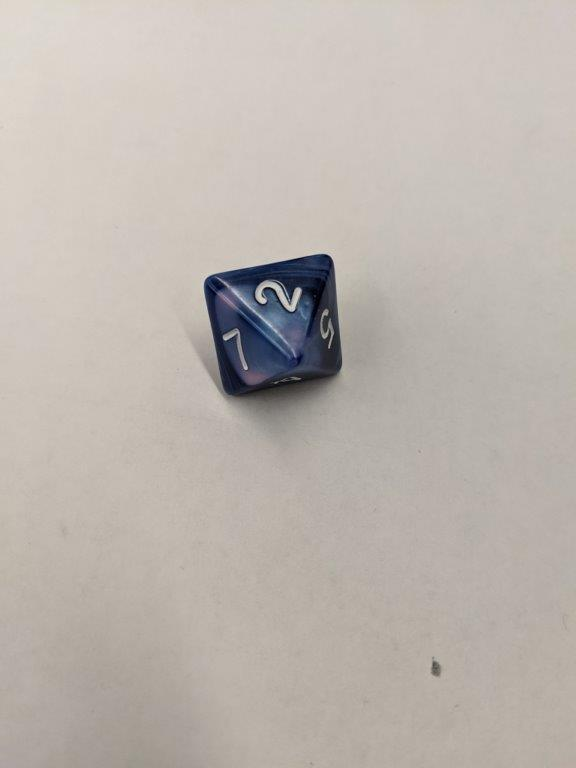d8-2: (204, 253, 345, 398)
